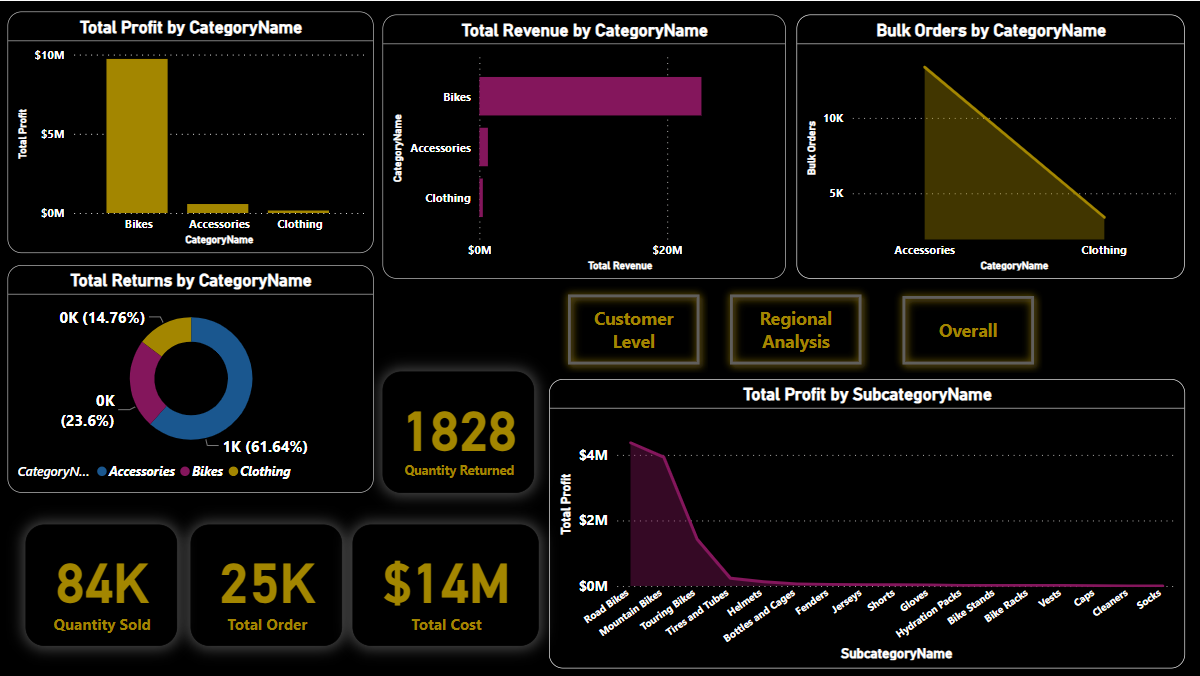

What the dashboard file says about the page in this screenshot:
{"tool":"powerbi","page":{"name":"Product Level","canvas":[1280,720],"ordinal":1},"visuals":[{"type":"card","fields":{"Values":["Measure Table.Total Order"]},"box":[205,554.7,160.5,128.7],"z":0},{"type":"card","fields":{"Values":["Measure Table.Quantity Sold"]},"box":[30.2,554.7,160.5,128.7],"z":1000},{"type":"card","fields":{"Values":["Measure Table.Quantity Returned"]},"box":[408.5,392.6,160.5,128.7],"z":2000},{"type":"clusteredColumnChart","fields":{"Category":["Product Categories Lookup.CategoryName"],"Y":["Measure Table.Total Profit"]},"box":[11.1,11.1,387.8,255.9],"z":3000},{"type":"donutChart","fields":{"Category":["Product Categories Lookup.CategoryName"],"Y":["Measure Table.Total Returns"]},"box":[11.1,279.7,387.8,241.6],"z":4000},{"type":"clusteredBarChart","fields":{"Category":["Product Categories Lookup.CategoryName"],"Y":["Measure Table.Total Revenue"]},"box":[408.5,14.3,427.5,279.7],"z":5000},{"type":"actionButton","box":[950.5,303.6,157.4,90.6],"z":6000},{"type":"actionButton","box":[596,302,157.4,92.2],"z":7000},{"type":"actionButton","box":[767.7,302,157.4,92.2],"z":8000},{"type":"stackedAreaChart","fields":{"Category":["Product Subcategories Lookup.SubcategoryName"],"Y":["Measure Table.Total Profit"]},"box":[584.9,400.5,673.9,306.8],"z":9000},{"type":"stackedAreaChart","fields":{"Category":["Product Categories Lookup.CategoryName"],"Y":["Measure Table.Bulk Orders"]},"box":[847.2,14.3,411.7,279.7],"z":10000},{"type":"card","fields":{"Values":["Measure Table.Total Cost"]},"box":[376.7,554.7,197.1,128.7],"z":11000}]}

Visuals, with their boxes in screenshot pixels (x1, y1, x2, y2), scaled from the page's 1280x720 canvas onto the 1200x676 screenshot:
card - Measure Table.Total Order: (left=192, top=521, right=343, bottom=642)
card - Measure Table.Quantity Sold: (left=28, top=521, right=179, bottom=642)
card - Measure Table.Quantity Returned: (left=383, top=369, right=533, bottom=489)
clusteredColumnChart - Product Categories Lookup.CategoryName x Measure Table.Total Profit: (left=10, top=10, right=374, bottom=251)
donutChart - Product Categories Lookup.CategoryName x Measure Table.Total Returns: (left=10, top=263, right=374, bottom=489)
clusteredBarChart - Product Categories Lookup.CategoryName x Measure Table.Total Revenue: (left=383, top=13, right=784, bottom=276)
actionButton: (left=891, top=285, right=1039, bottom=370)
actionButton: (left=559, top=284, right=706, bottom=370)
actionButton: (left=720, top=284, right=867, bottom=370)
stackedAreaChart - Product Subcategories Lookup.SubcategoryName x Measure Table.Total Profit: (left=548, top=376, right=1180, bottom=664)
stackedAreaChart - Product Categories Lookup.CategoryName x Measure Table.Bulk Orders: (left=794, top=13, right=1180, bottom=276)
card - Measure Table.Total Cost: (left=353, top=521, right=538, bottom=642)
